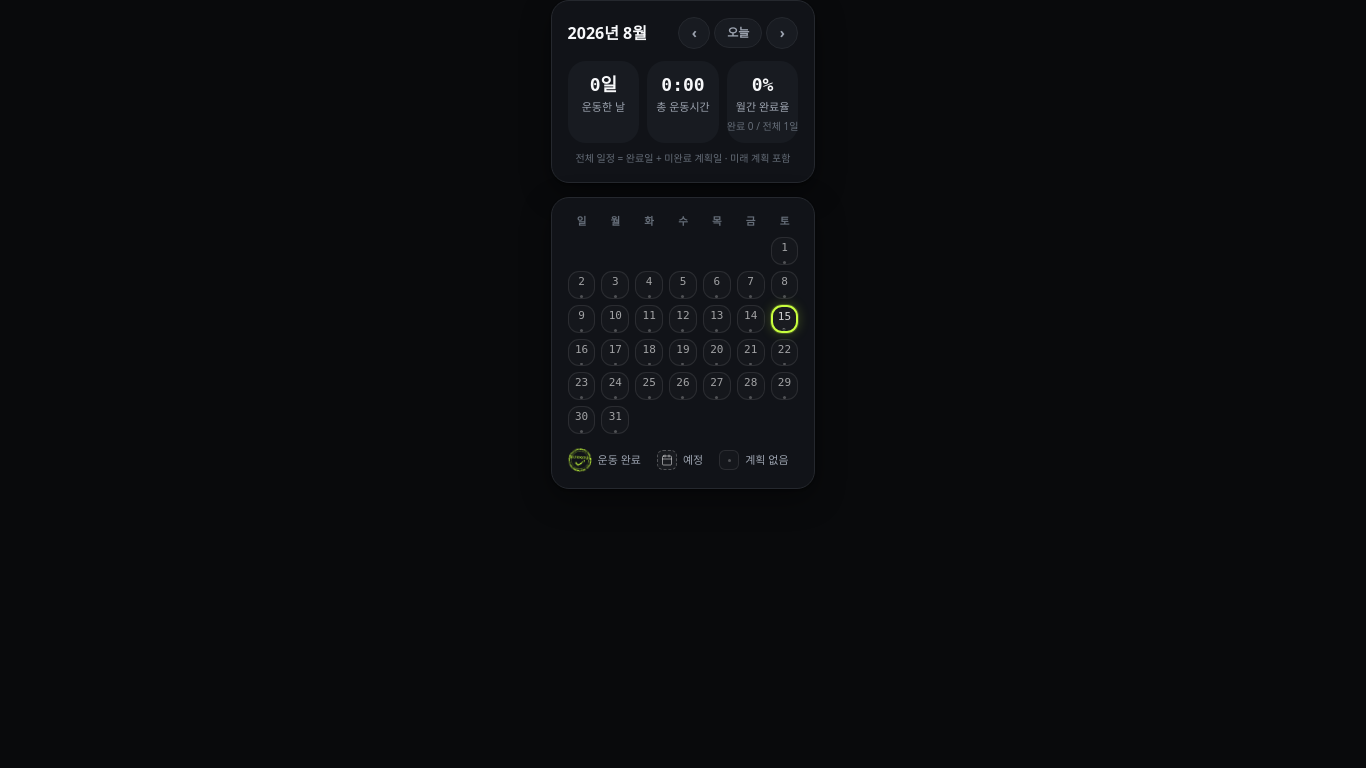
Scenario: CalendarView — 전신 인터벌 명칭 (2026-08-12) › 오늘의 인터벌 계획은 예정 배지와 준비 버튼을 전신 인터벌로 안내한다
Check: the heading "2026년 8월" is shown, box [568, 21, 647, 45]
Click the button named "8월 15일," at [784, 319], box [771, 305, 798, 333]
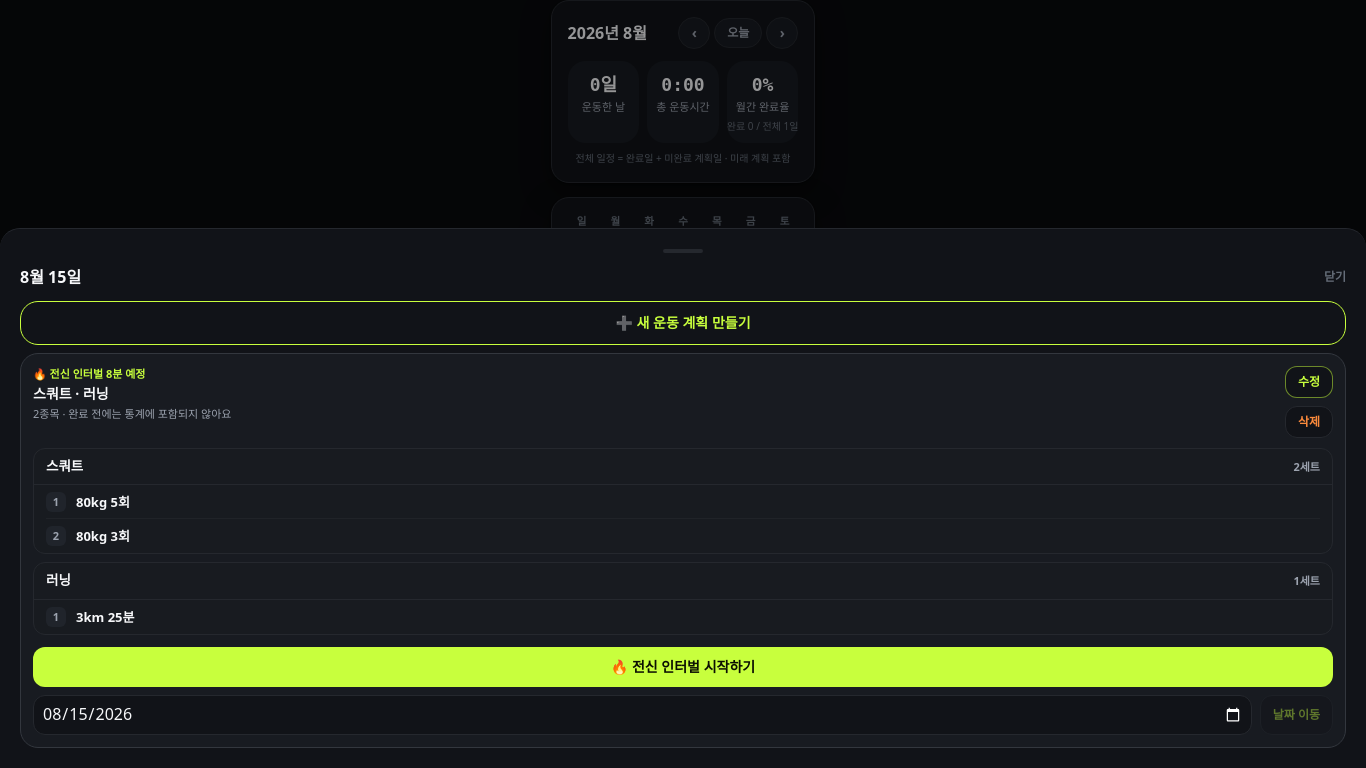
Check: the text "🔥 전신 인터벌 8분 예정" is shown, box [33, 366, 145, 381]
Check: the button "🔥 전신 인터벌 시작하기" is shown, box [33, 647, 1333, 687]
